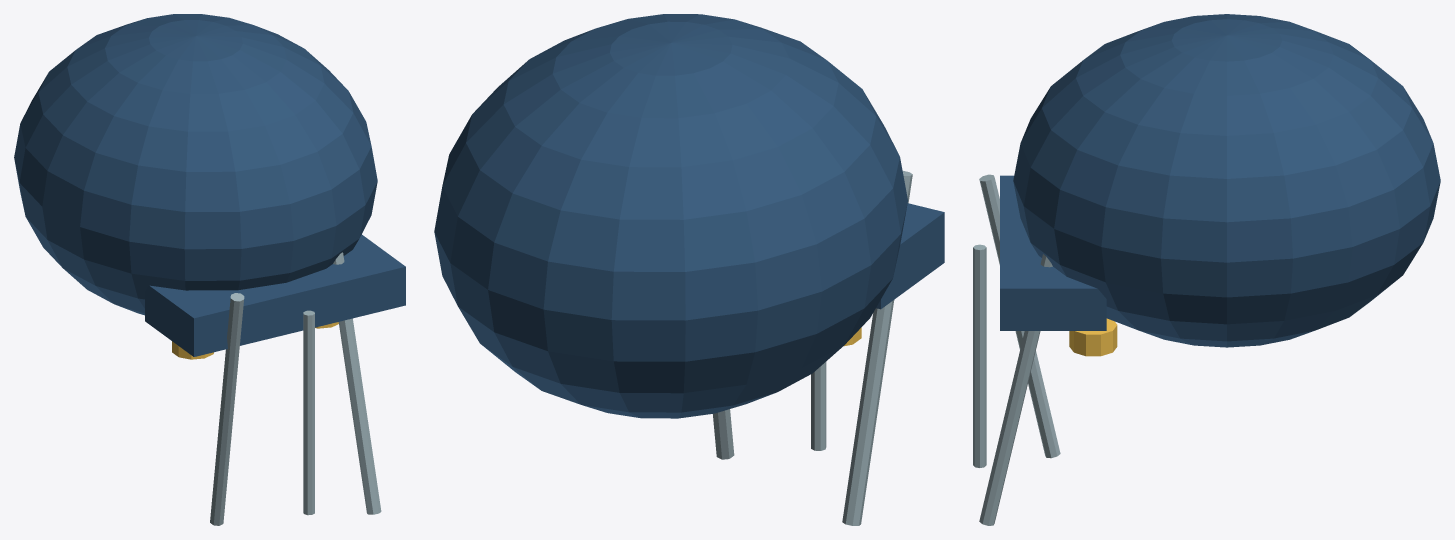
The model's file is batter-helmet-with-face-guard.glb.
3 views of the same model, side by side, from view 1: azimuth 30°, elevation 25°; view 2: azimuth 150°, elevation 25°; view 3: azimuth 270°, elevation 25° (orthographic). The views are drawn at different scales.
Visible parts, largest first — view 1: Helmet | shell, Helmet | brow peak, Helmet | left guard rail, Helmet | right guard rail, Helmet | center guard; view 2: Helmet | shell, Helmet | left guard rail, Helmet | brow peak, Helmet | center guard, Helmet | right guard rail; view 3: Helmet | shell, Helmet | brow peak, Helmet | right guard rail, Helmet | center guard, Helmet | left guard rail, Helmet | side pivot.001.
Part boxes in pixels (x1,y1,x2,y2): Helmet | shell: [14, 14, 377, 315]; Helmet | brow peak: [145, 234, 405, 356]; Helmet | left guard rail: [210, 293, 244, 525]; Helmet | right guard rail: [333, 252, 381, 514]; Helmet | center guard: [303, 310, 314, 515]; Helmet | shell: [434, 14, 907, 418]; Helmet | left guard rail: [842, 171, 912, 525]; Helmet | brow peak: [876, 203, 944, 309]; Helmet | center guard: [811, 362, 826, 450]; Helmet | right guard rail: [713, 409, 734, 459]; Helmet | shell: [1013, 14, 1440, 347]; Helmet | brow peak: [1000, 175, 1106, 330]; Helmet | right guard rail: [979, 254, 1052, 525]; Helmet | center guard: [973, 244, 986, 467]; Helmet | left guard rail: [979, 174, 1060, 458]; Helmet | side pivot.001: [1069, 318, 1117, 356].
Bounding box in the file's own units: 0.29 × 0.3735 × 0.35.
